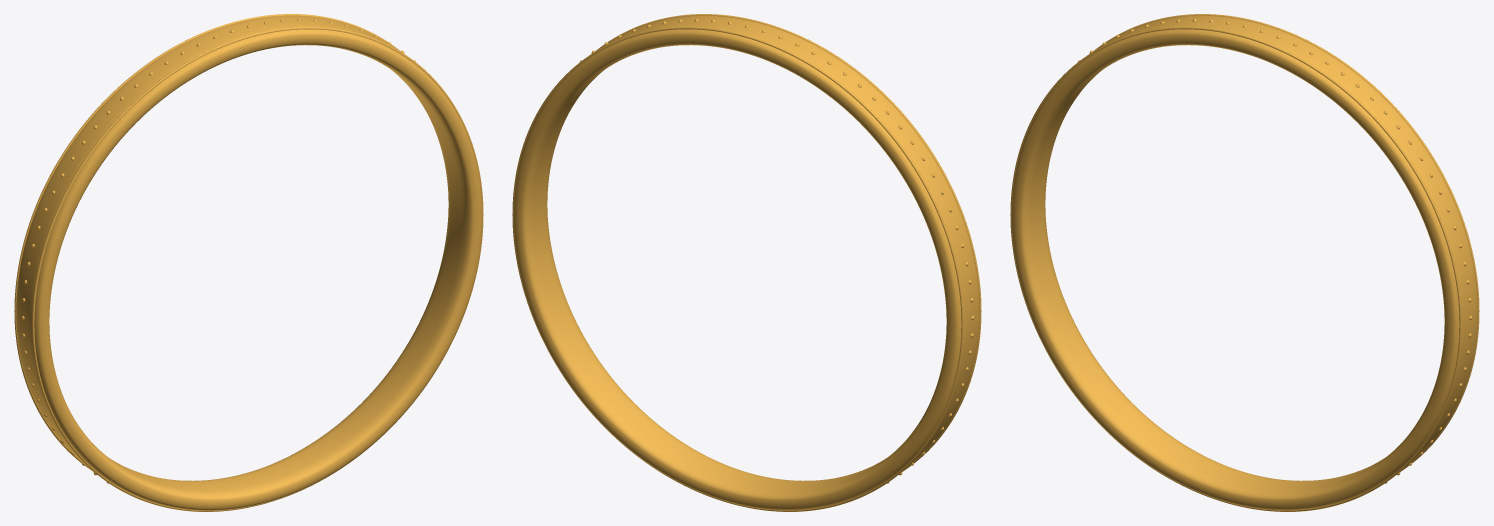
The model's file is gold-bangle.glb.
3 views of the same model, side by side, from view 1: azimuth 30°, elevation 25°; view 2: azimuth 150°, elevation 25°; view 3: azimuth 330°, elevation 25° (orthographic).
Parts seen in each view (by area): view 1: metal; view 2: metal; view 3: metal.
Part boxes in pixels (x1,y1,x2,y2): metal: (14,14,483,511); metal: (512,14,981,511); metal: (1010,14,1479,511).
Bounding box in the file's own units: 7.22 × 7.22 × 0.68.
